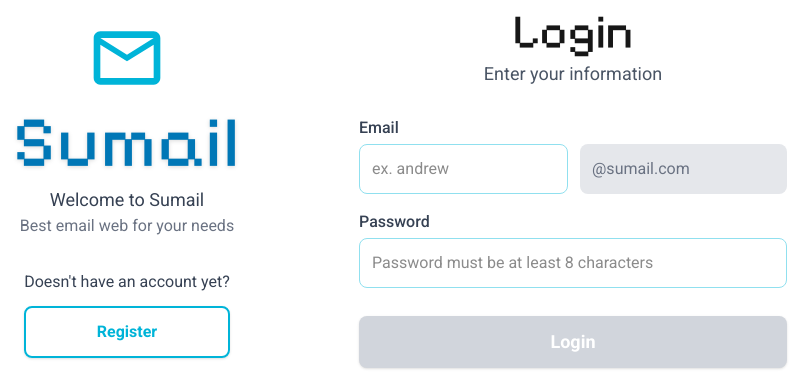
Test: Login Component › validates inputs and enables button when form is valid
Type "testuser" into the field with placeholder "ex. andrew" at point(464, 169), box [359, 144, 568, 194]
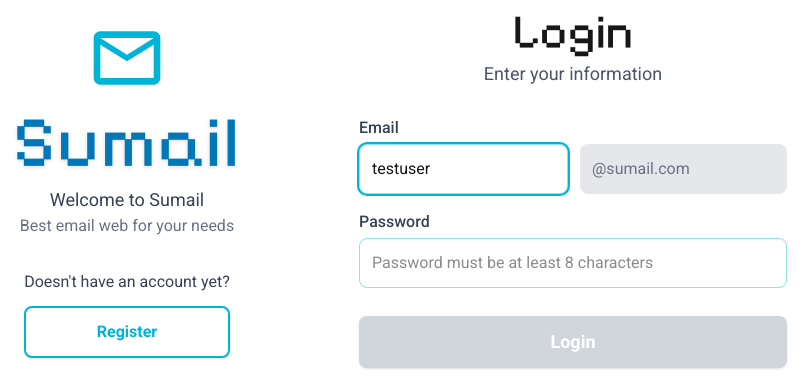
Type "Password123" into the password field with placeholder "Password must be at least 8 characters" at point(573, 263), box [359, 238, 787, 288]
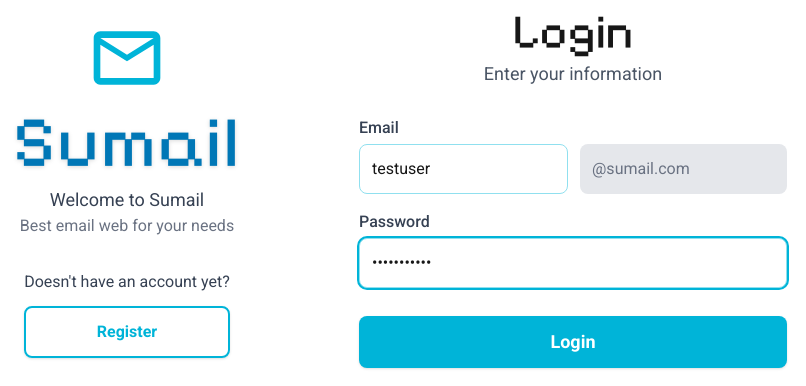
Expected: the button "Login" is enabled, [359, 316, 787, 368]
